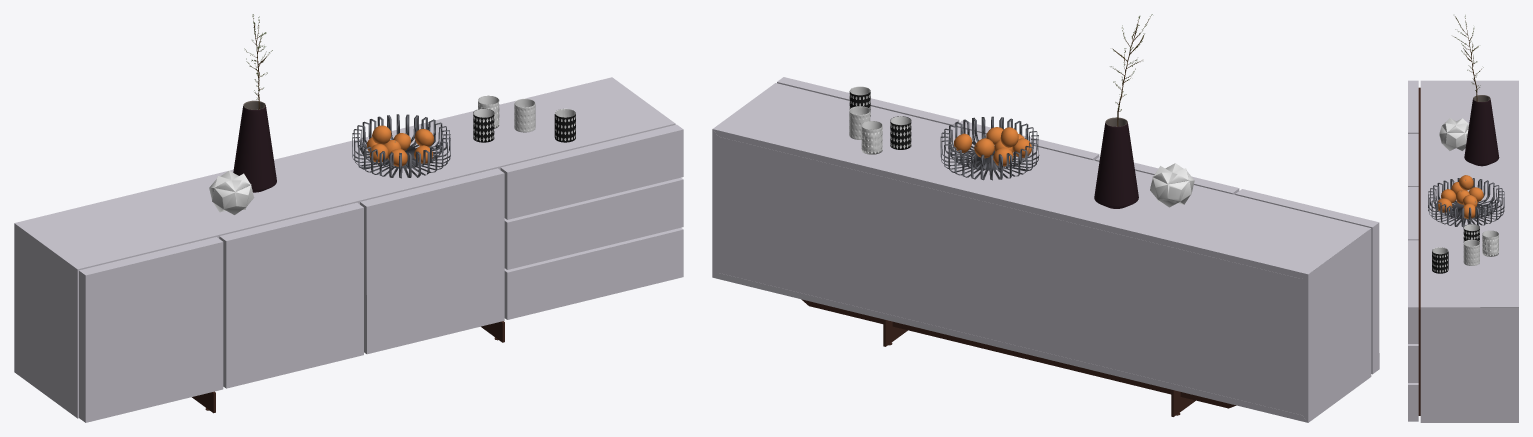
3 views of the same model, side by side, from view 1: azimuth 30°, elevation 25°; view 2: azimuth 150°, elevation 25°; view 3: azimuth 270°, elevation 25° (orthographic). The views are drawn at different scales.
Parts seen in each view (by area): view 1: LE_Sideboard_Poliform_Pandora_4_001_primitive0, LE_Bolia_Bowl_Grana_001, LE_Vase_Habitat_Scratch_001_primitive0, LE_Bolia_Facet_Jar001, LE_Bolia_Rombe_Tealight2_001, LE_Sideboard_Poliform_Pandora_4_001_primitive1; view 2: LE_Sideboard_Poliform_Pandora_4_001_primitive0, LE_Bolia_Bowl_Grana_001, LE_Sideboard_Poliform_Pandora_4_001_primitive1, LE_Vase_Habitat_Scratch_001_primitive0, LE_Bolia_Facet_Jar001, LE_Bolia_Rombe_Tealight1_001; view 3: LE_Sideboard_Poliform_Pandora_4_001_primitive0, LE_Bolia_Bowl_Grana_001, LE_Vase_Habitat_Scratch_001_primitive0, LE_Sideboard_Poliform_Pandora_4_001_primitive1, LE_Bolia_Facet_Jar001, LE_Bolia_Rombe_Tealight1_001, LE_Bolia_Rombe_Tealight2_001, LE_Bolia_Rombe_Tealight4_001_primitive0, LE_Branch_001_primitive0, LE_Bolia_Rombe_Tealight4_001_primitive1, LE_Orange_03_primitive0, LE_Bolia_Rombe_Tealight3_001_primitive1 (+7 smaller).
Boxes of the visible parts, left/top/right/bottom form: LE_Sideboard_Poliform_Pandora_4_001_primitive0: left=14, top=77, right=683, bottom=422; LE_Bolia_Bowl_Grana_001: left=352, top=114, right=450, bottom=178; LE_Vase_Habitat_Scratch_001_primitive0: left=233, top=103, right=276, bottom=192; LE_Bolia_Facet_Jar001: left=209, top=170, right=253, bottom=214; LE_Bolia_Rombe_Tealight2_001: left=514, top=98, right=535, bottom=132; LE_Sideboard_Poliform_Pandora_4_001_primitive1: left=192, top=321, right=504, bottom=413; LE_Sideboard_Poliform_Pandora_4_001_primitive0: left=712, top=77, right=1379, bottom=422; LE_Bolia_Bowl_Grana_001: left=940, top=116, right=1039, bottom=180; LE_Sideboard_Poliform_Pandora_4_001_primitive1: left=801, top=299, right=1236, bottom=416; LE_Vase_Habitat_Scratch_001_primitive0: left=1094, top=122, right=1138, bottom=208; LE_Bolia_Facet_Jar001: left=1150, top=163, right=1194, bottom=207; LE_Bolia_Rombe_Tealight1_001: left=861, top=121, right=882, bottom=154; LE_Sideboard_Poliform_Pandora_4_001_primitive0: left=1408, top=80, right=1518, bottom=422; LE_Bolia_Bowl_Grana_001: left=1428, top=178, right=1504, bottom=227; LE_Vase_Habitat_Scratch_001_primitive0: left=1464, top=98, right=1499, bottom=166; LE_Sideboard_Poliform_Pandora_4_001_primitive1: left=1418, top=87, right=1420, bottom=415; LE_Bolia_Facet_Jar001: left=1439, top=118, right=1468, bottom=150; LE_Bolia_Rombe_Tealight1_001: left=1482, top=230, right=1498, bottom=256; LE_Bolia_Rombe_Tealight2_001: left=1463, top=239, right=1479, bottom=265; LE_Bolia_Rombe_Tealight4_001_primitive0: left=1432, top=249, right=1448, bottom=273; LE_Branch_001_primitive0: left=1455, top=16, right=1481, bottom=101; LE_Bolia_Rombe_Tealight4_001_primitive1: left=1432, top=247, right=1448, bottom=272; LE_Orange_03_primitive0: left=1459, top=175, right=1473, bottom=190; LE_Bolia_Rombe_Tealight3_001_primitive1: left=1463, top=224, right=1479, bottom=241.
Bounding box in the file's own units: 2.5 × 1.45 × 0.5178.
